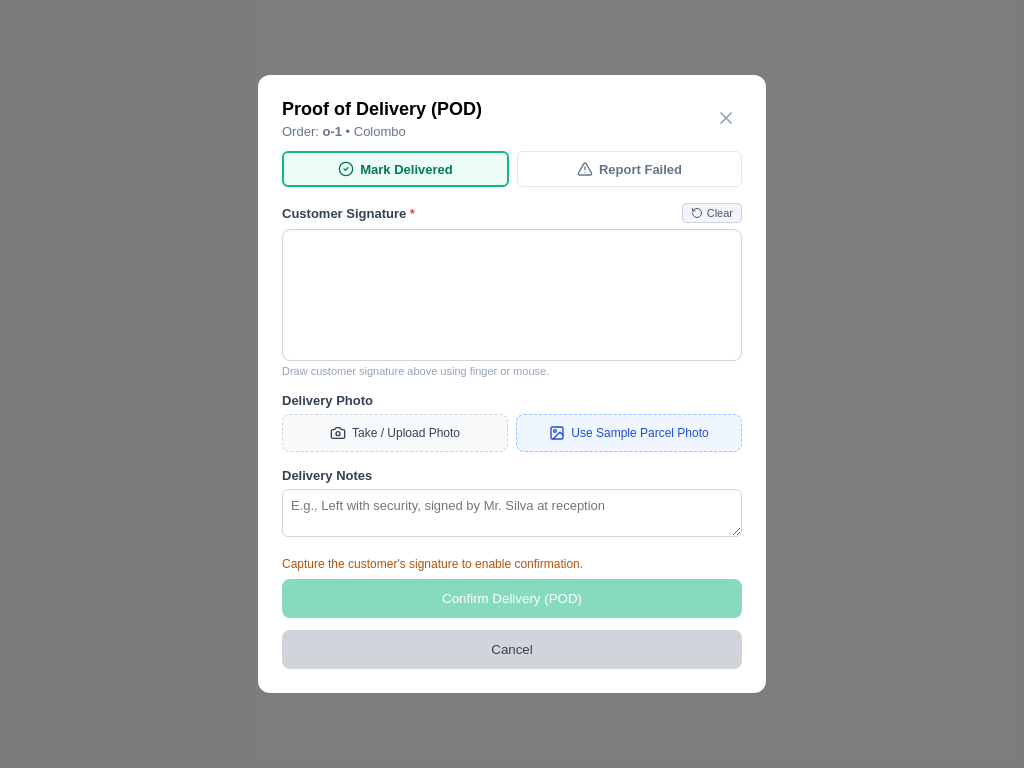
Test: ProofOfDeliveryModal › clearing the signature disables confirmation again
Press the mouse on the drawing at (512, 295), box [283,230,741,360]
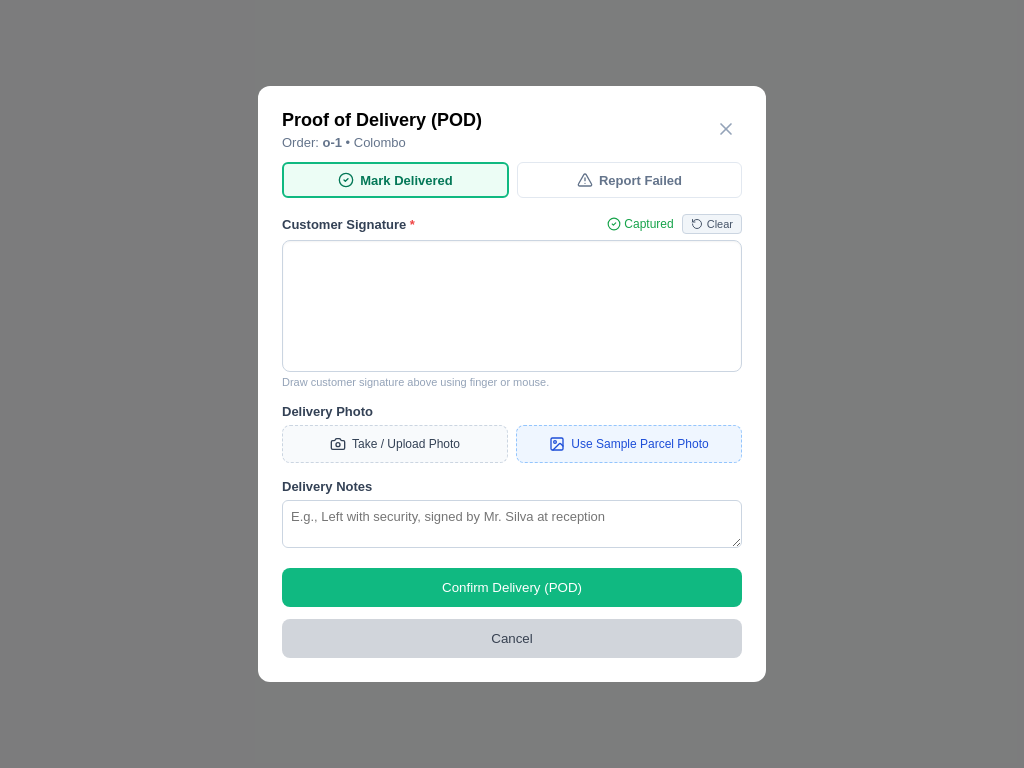
Click the button "Clear" at (712, 224), box [682,214,742,234]
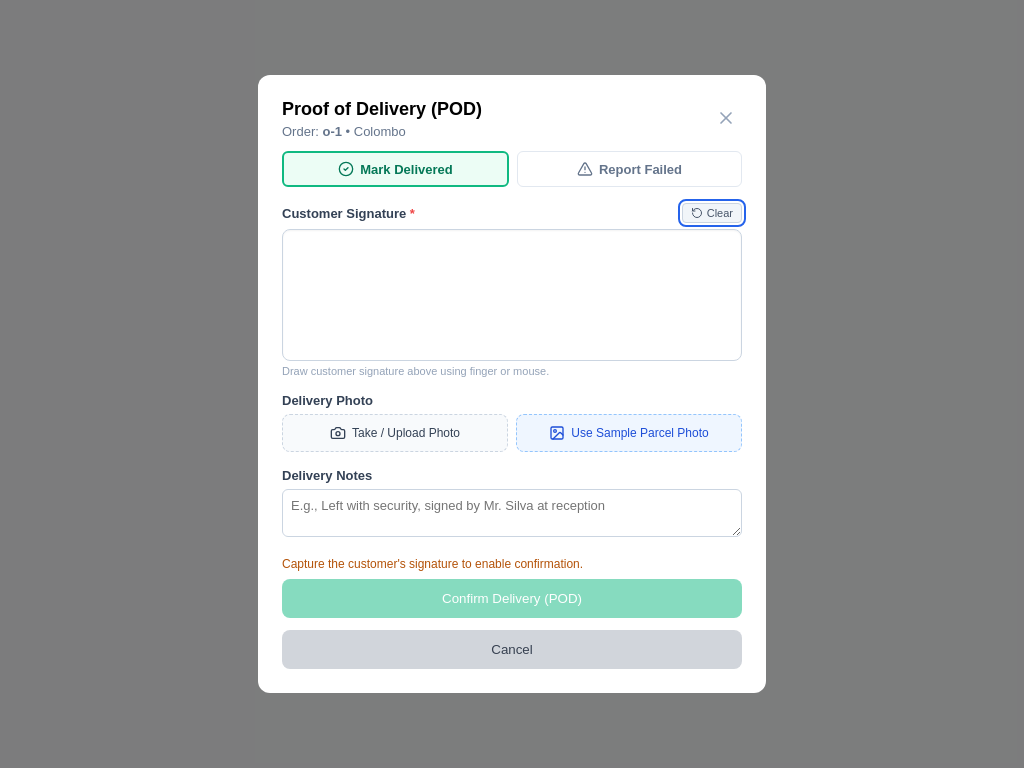
Now the button "Confirm Delivery (POD)" is disabled, box [282,579,742,618]
